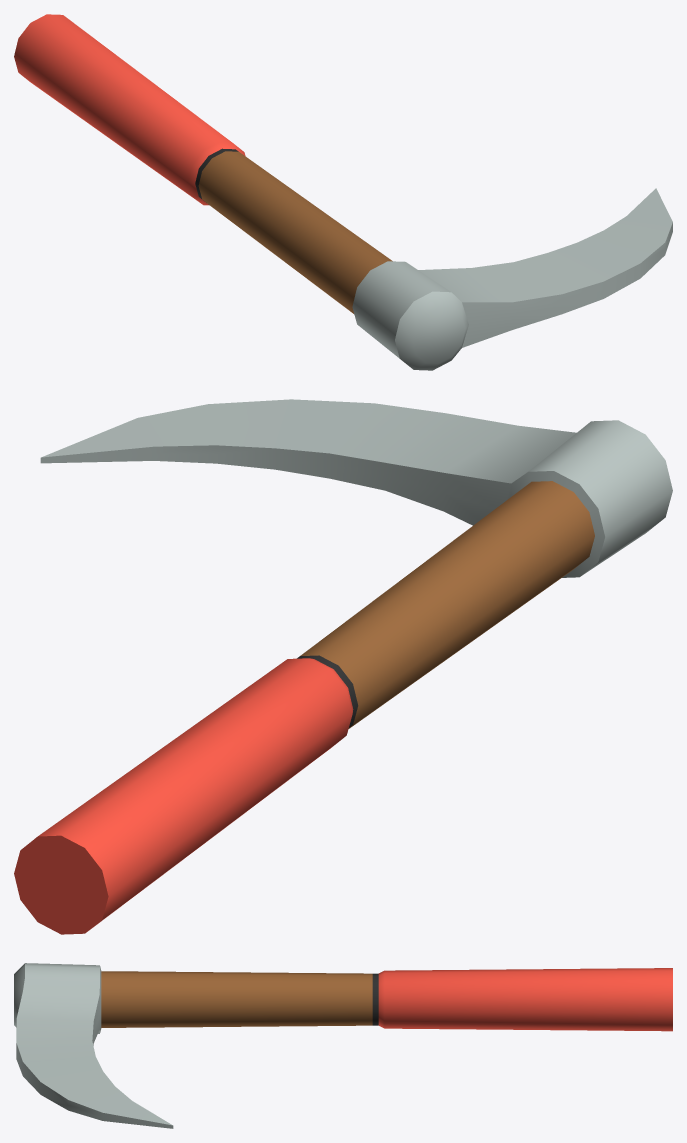
File: Kusarigama.fbx
3 views of the same model, one above another, from view 1: azimuth 30°, elevation 25°; view 2: azimuth 150°, elevation 25°; view 3: azimuth 270°, elevation 25° (orthographic). The views are drawn at different scales.
Parts seen in each view (by area): view 1: Kusarigama; view 2: Kusarigama; view 3: Kusarigama.
Boxes of the visible parts, x1=… form: Kusarigama: x1=14, y1=14, x2=672, y2=370; Kusarigama: x1=14, y1=399, x2=672, y2=934; Kusarigama: x1=14, y1=963, x2=672, y2=1128.
Size of the model in its own units: 0.4694 by 0.1015 by 0.9124.
